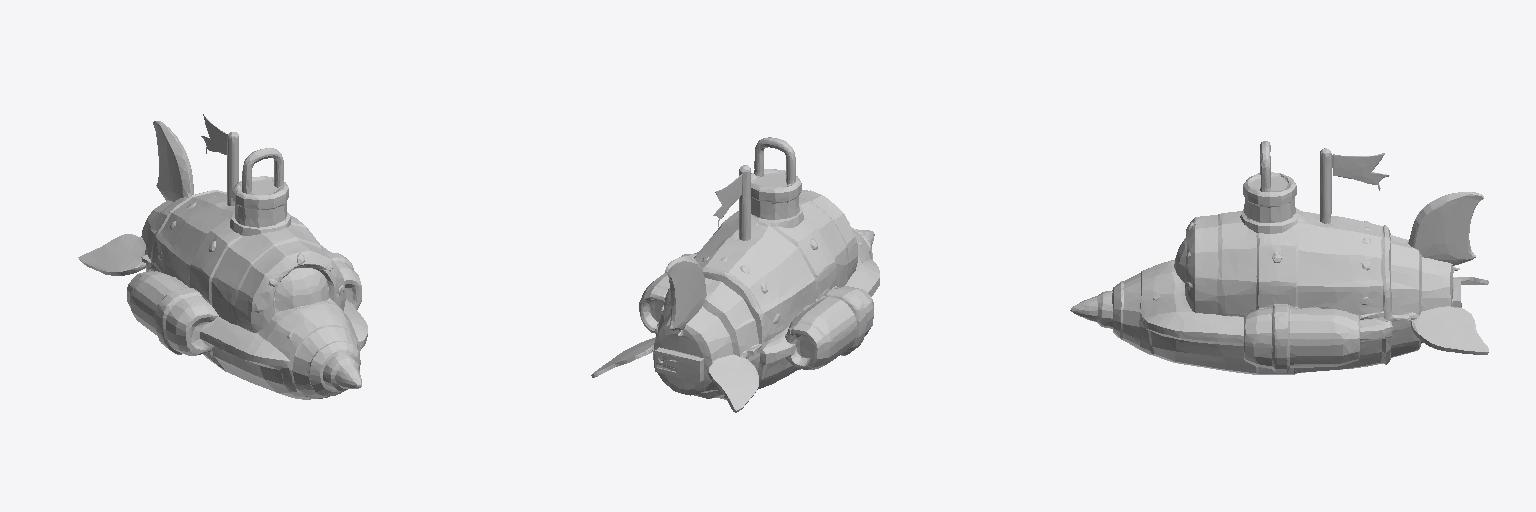
File: Steampunk_Submarine_0513230058_texture.obj
The picture shows the model from 3 angles: view 1: azimuth 30°, elevation 25°; view 2: azimuth 150°, elevation 25°; view 3: azimuth 270°, elevation 25°; orthographic projection.
Parts seen in each view (by area): view 1: Steampunk_Submarine_[number redacted]_texture; view 2: Steampunk_Submarine_[number redacted]_texture; view 3: Steampunk_Submarine_[number redacted]_texture.
Part boxes in pixels (bbox=[...]): Steampunk_Submarine_[number redacted]_texture: bbox=[78, 114, 367, 399]; Steampunk_Submarine_[number redacted]_texture: bbox=[591, 137, 879, 412]; Steampunk_Submarine_[number redacted]_texture: bbox=[1070, 141, 1488, 374].
Size of the model in its own units: 1.06 by 1.18 by 2.